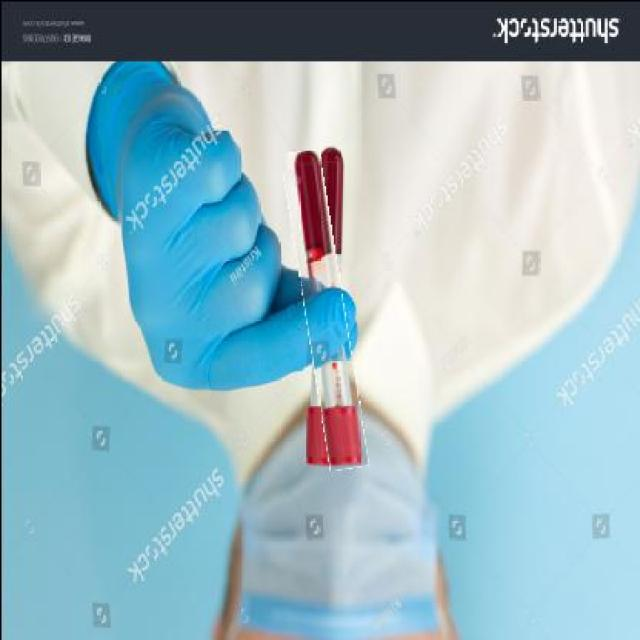Experimental-tube: (292, 148, 356, 468)
